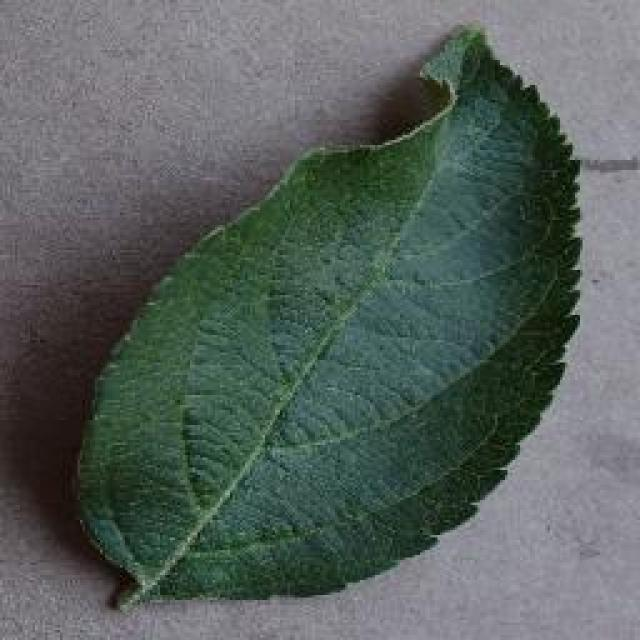apple healthy: (67, 20, 585, 612)
